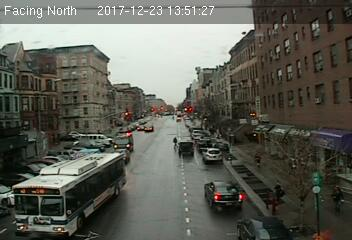bicycle: (172, 136, 179, 153)
bus: (10, 152, 129, 236)
car: (204, 181, 244, 211), (201, 146, 223, 163), (178, 139, 195, 156)
pedestrian: (272, 179, 286, 205), (332, 185, 343, 215)
truck: (113, 132, 132, 151)
